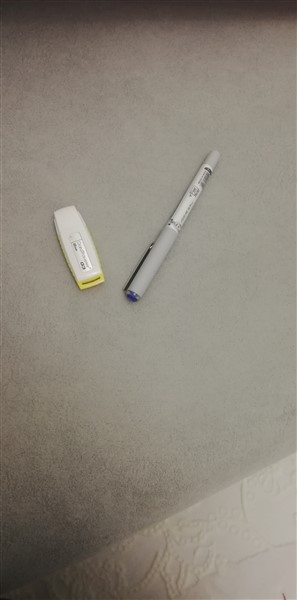flash disk: (49, 200, 107, 294)
pilot kalem: (120, 147, 228, 310)
